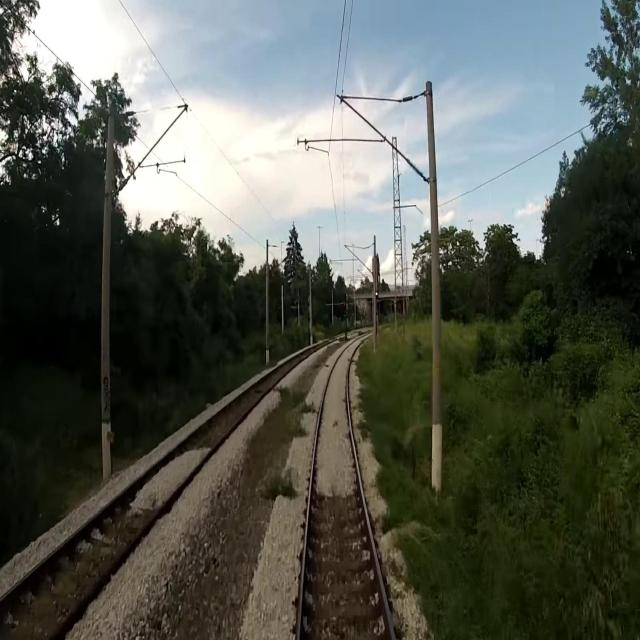rail-track: (0, 354, 304, 639), (301, 341, 390, 639)
